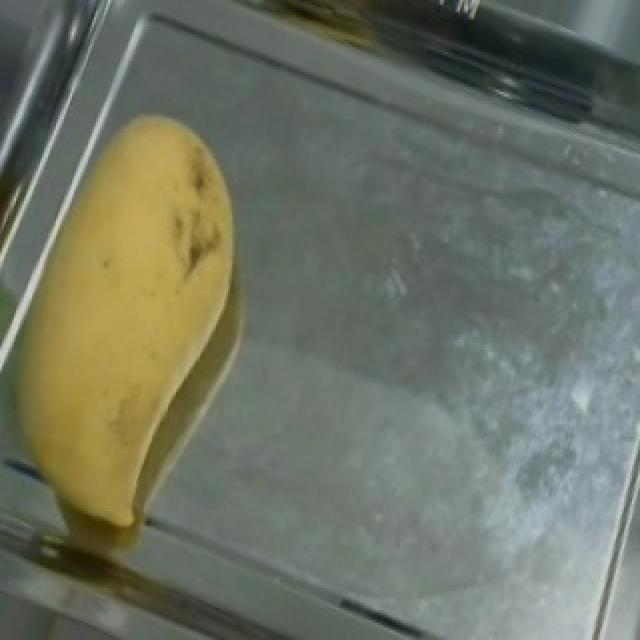fruit: (4, 74, 318, 479)
